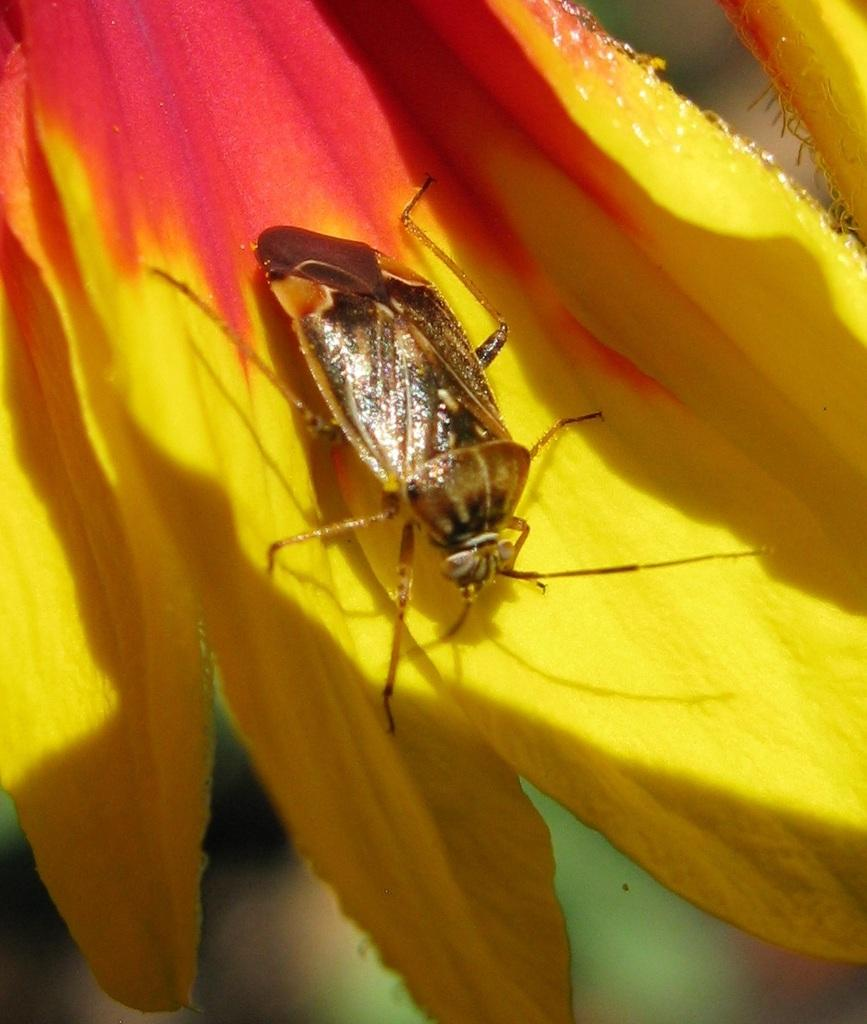plant_bugs: (140, 137, 790, 746)
